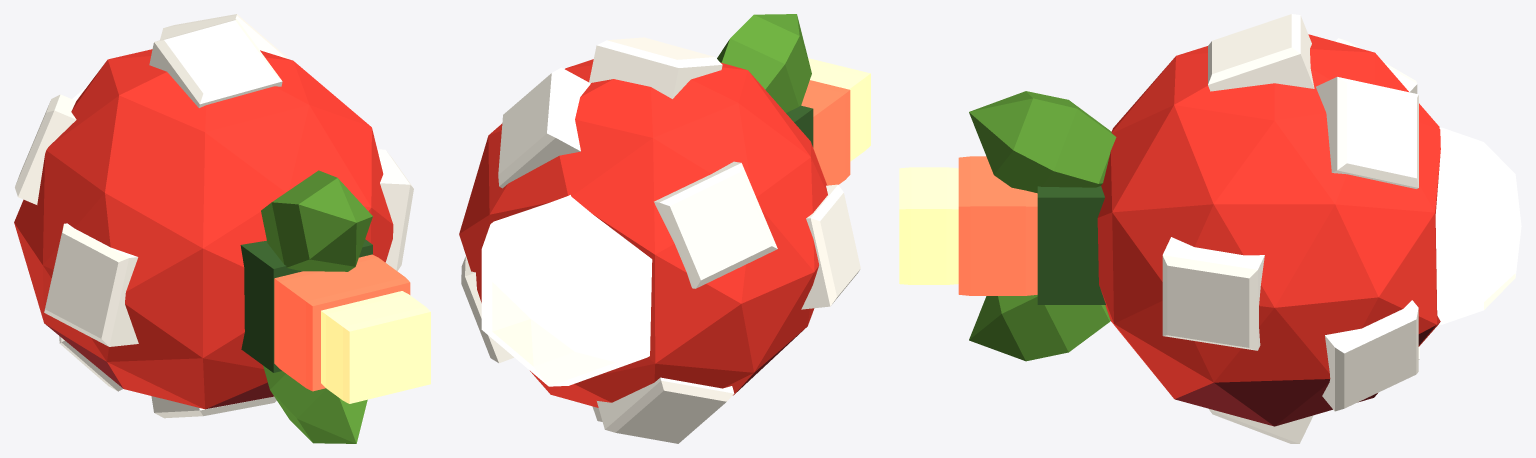
The model's file is ToadstoolBolt.glb.
3 renders of one model, left to right at view 1: azimuth 30°, elevation 25°; view 2: azimuth 150°, elevation 25°; view 3: azimuth 270°, elevation 25°, orthographic. The views are drawn at different scales.
Parts seen in each view (by area): view 1: Cap, Ember_Tip, Ember_Base, Leaf_Top, Spot_04, Spot_01, Core, Leaf_Bottom, Spot_08, Spot_03, Spot_02, Spot_05 (+1 smaller); view 2: Cap, Nose, Spot_08, Spot_05, Leaf_Top, Spot_07, Spot_01, Spot_04, Ember_Base, Ember_Tip, Spot_06, Core; view 3: Cap, Nose, Leaf_Top, Ember_Base, Spot_03, Spot_05, Core, Ember_Tip, Spot_06, Leaf_Bottom, Spot_01, Spot_02.
Boxes of the visible parts, x1,y1,x2,y2 form: Cap: [14, 49, 393, 409]; Ember_Tip: [321, 291, 430, 403]; Ember_Base: [274, 254, 410, 391]; Leaf_Top: [261, 170, 372, 271]; Spot_04: [44, 223, 138, 346]; Spot_01: [149, 19, 282, 107]; Core: [240, 239, 372, 372]; Leaf_Bottom: [263, 365, 367, 443]; Spot_08: [15, 94, 76, 204]; Spot_03: [377, 149, 413, 271]; Spot_02: [151, 396, 276, 418]; Spot_05: [160, 14, 288, 58]; Cap: [459, 59, 827, 407]; Nose: [481, 195, 652, 386]; Spot_08: [654, 161, 777, 288]; Spot_05: [498, 67, 590, 188]; Leaf_Top: [717, 14, 811, 112]; Spot_07: [597, 377, 734, 443]; Spot_01: [589, 37, 722, 98]; Spot_04: [801, 184, 860, 309]; Ember_Base: [801, 80, 850, 185]; Ember_Tip: [808, 58, 870, 161]; Spot_06: [461, 256, 513, 363]; Core: [786, 105, 813, 147]; Cap: [1097, 34, 1440, 426]; Nose: [1435, 127, 1521, 324]; Leaf_Top: [969, 91, 1116, 193]; Ember_Base: [958, 156, 1037, 295]; Spot_03: [1162, 237, 1264, 350]; Spot_05: [1316, 77, 1418, 188]; Core: [1037, 186, 1105, 304]; Ember_Tip: [899, 167, 958, 284]; Spot_06: [1322, 300, 1418, 411]; Leaf_Bottom: [969, 295, 1110, 361]; Spot_01: [1208, 14, 1314, 91]; Spot_02: [1209, 409, 1313, 443].
Bounding box in the file's own units: 0.4199 × 0.4433 × 0.63.
